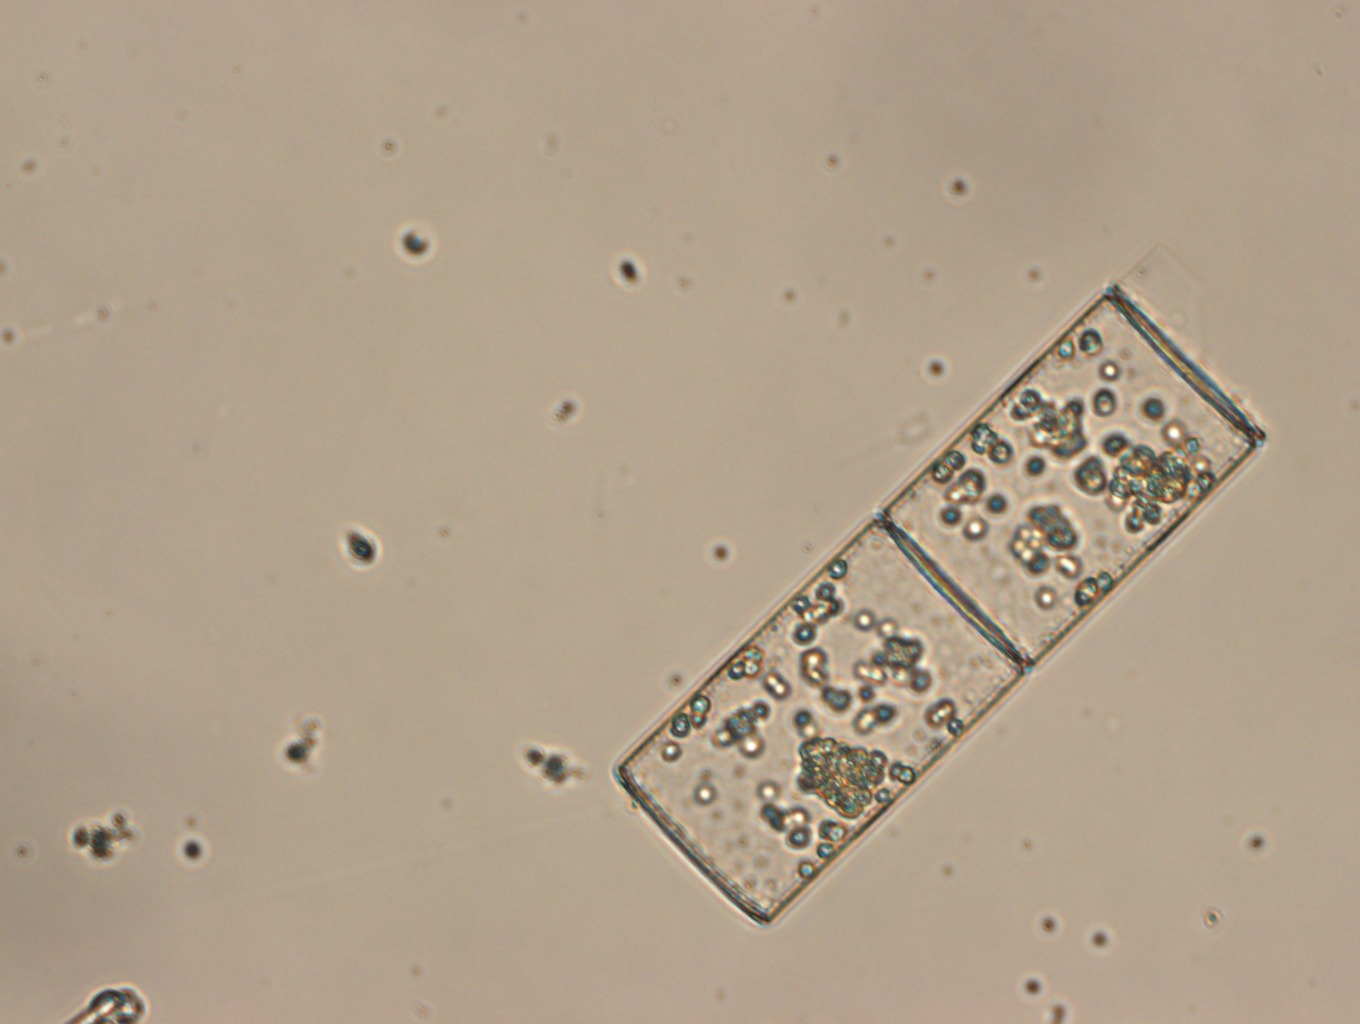guinardia flaccida: (607, 268, 1272, 933)
